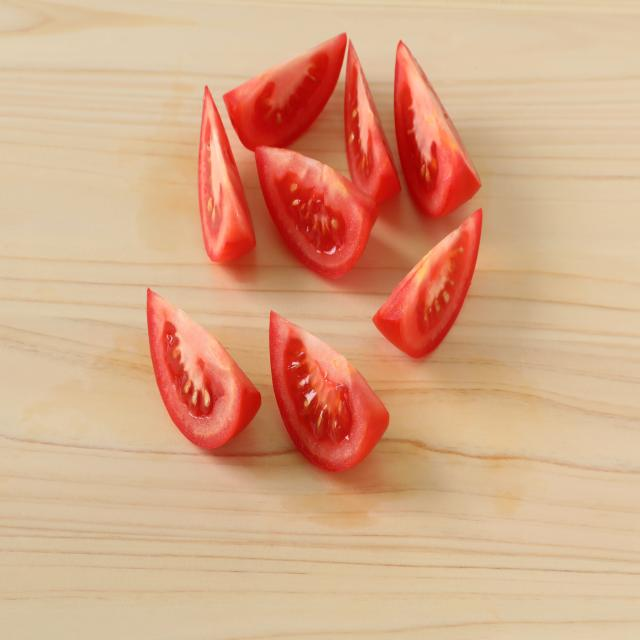Tomato: (267, 307, 394, 476), (142, 284, 264, 454), (390, 36, 495, 220), (371, 205, 486, 369), (255, 139, 379, 286), (220, 34, 354, 152), (193, 77, 260, 281), (337, 29, 402, 210)
